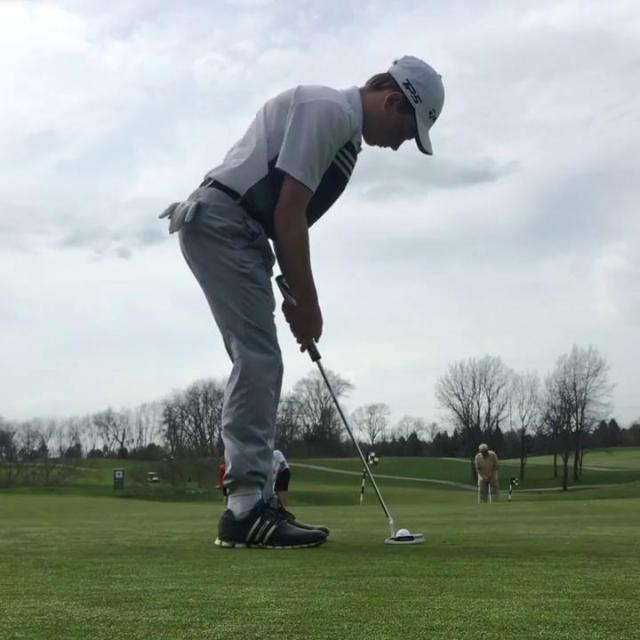golf ball: (395, 527, 411, 537)
golf club-handle: (273, 271, 428, 549)
golf club-head: (386, 534, 427, 546)
